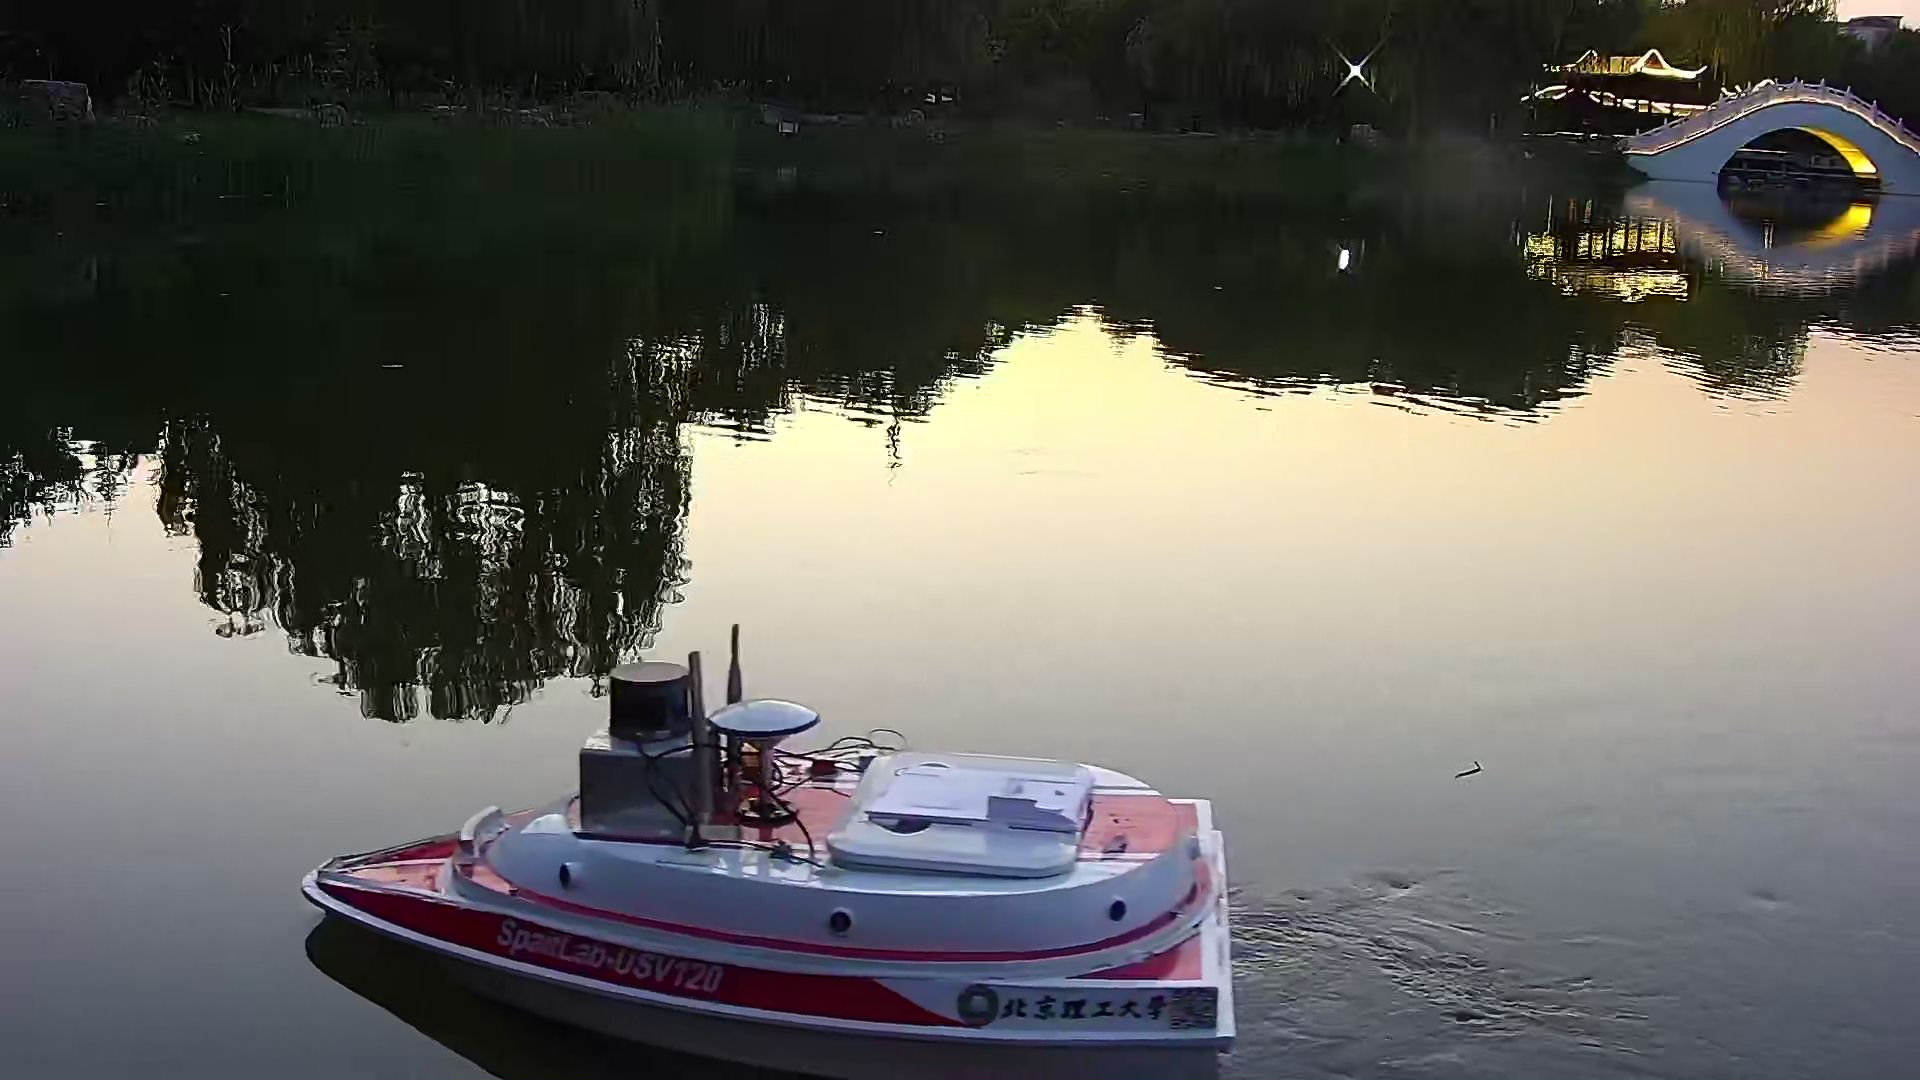boat: (305, 618, 1240, 1080)
bridge: (1629, 76, 1920, 185)
